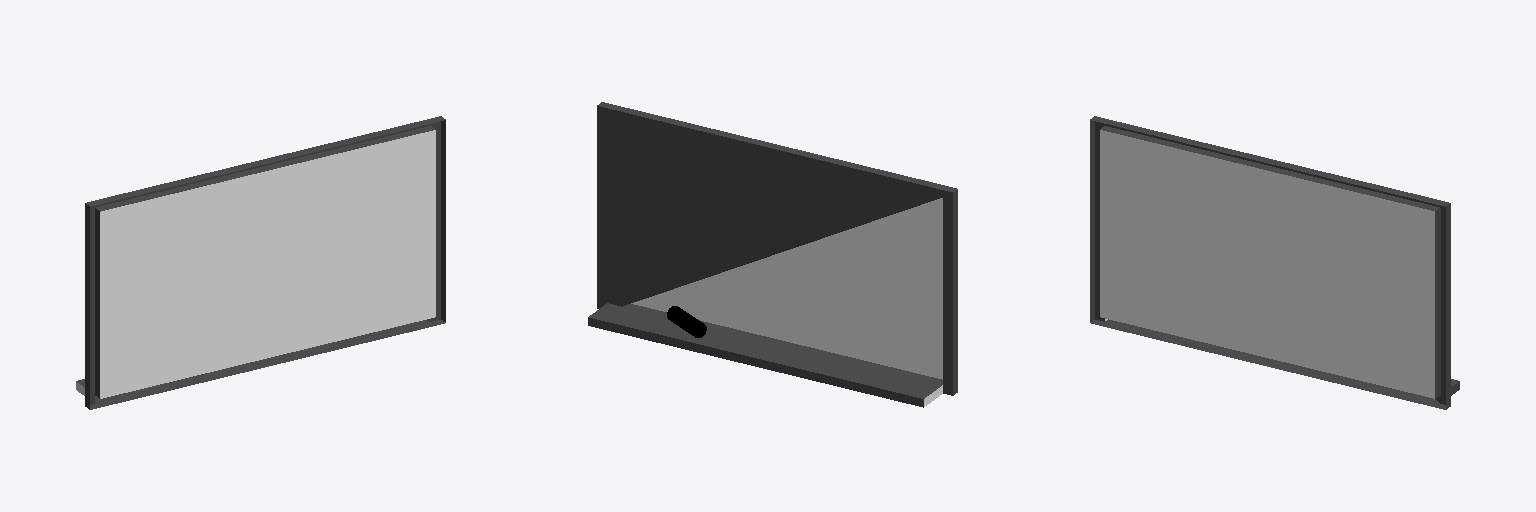
File: tabula.obj
3 views of the same model, side by side, from view 1: azimuth 30°, elevation 25°; view 2: azimuth 150°, elevation 25°; view 3: azimuth 330°, elevation 25° (orthographic).
Visible parts, largest first — view 1: Mesh1 Model; view 2: Mesh1 Model, Mesh2 Model; view 3: Mesh1 Model.
Part boxes in pixels (bbox=[...]): Mesh1 Model: bbox=[76, 116, 445, 409]; Mesh1 Model: bbox=[588, 102, 957, 407]; Mesh2 Model: bbox=[667, 306, 706, 337]; Mesh1 Model: bbox=[1090, 116, 1459, 409].
Bounding box in the file's own units: 16636 × 9078 × 1994.